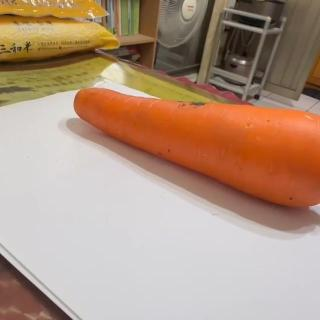carrot: (72, 86, 320, 210)
